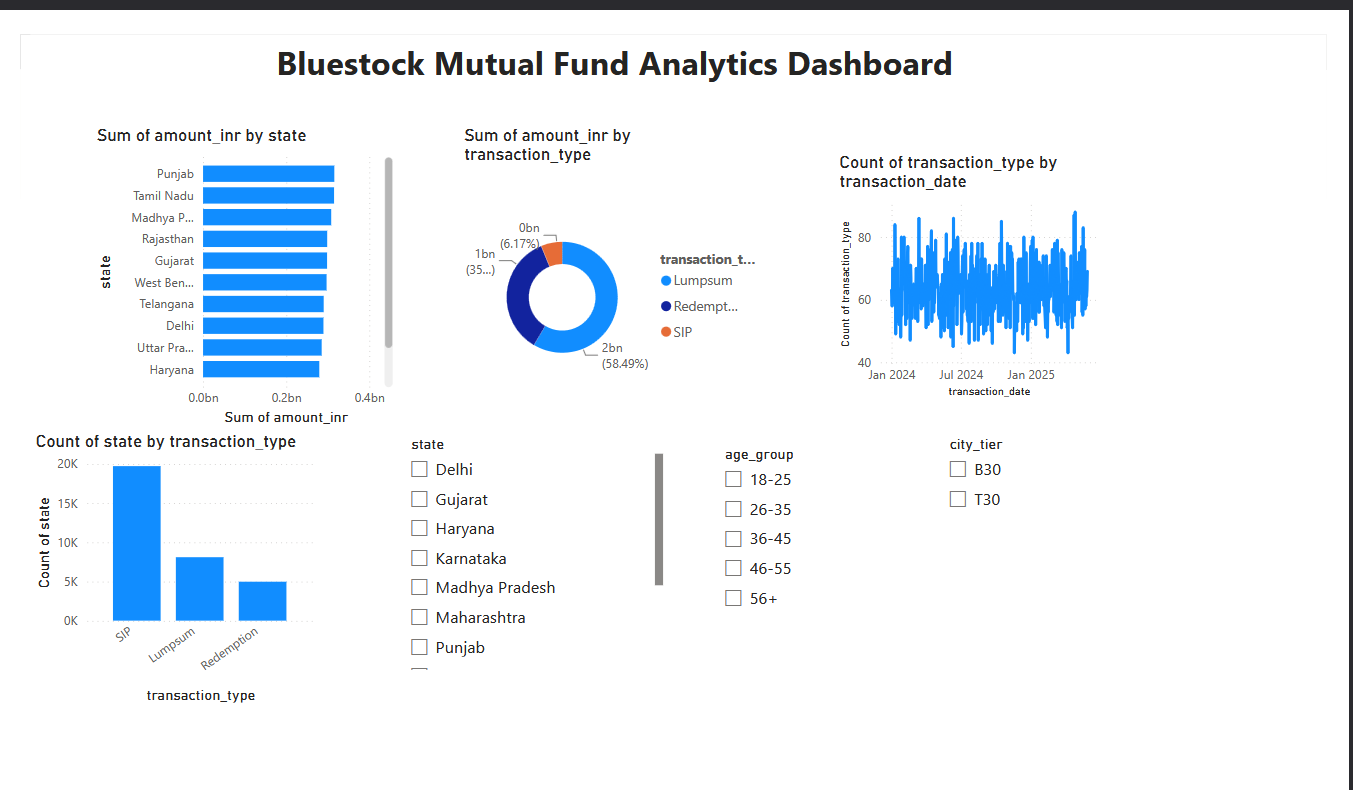

This screenshot's page, from the dashboard's own definition file:
{"tool":"powerbi","page":{"name":"Investor Analytics","canvas":[1280,720],"ordinal":2},"visuals":[{"type":"textbox","box":[10,0,1270,720],"z":0},{"type":"textbox","box":[0,0,1280,720],"z":1000},{"type":"clusteredBarChart","fields":{"Category":["investor_transactions_clean.state"],"Y":["Sum(investor_transactions_clean.amount_inr)"]},"box":[70,87.5,300,300],"z":2000},{"type":"donutChart","fields":{"Category":["investor_transactions_clean.transaction_type"],"Y":["Sum(investor_transactions_clean.amount_inr)"]},"box":[430,87.5,300,300],"z":3000},{"type":"clusteredColumnChart","fields":{"Y":["CountNonNull(investor_transactions_clean.state)"],"Category":["investor_transactions_clean.transaction_type"]},"box":[10,387.5,282.5,272.5],"z":4000},{"type":"lineChart","fields":{"Category":["investor_transactions_clean.transaction_date"],"Y":["CountNonNull(investor_transactions_clean.transaction_type)"]},"box":[797.5,115,277.5,245],"z":5000},{"type":"slicer","fields":{"Values":["investor_transactions_clean.state"]},"box":[370,387.5,265,240],"z":6000},{"type":"slicer","fields":{"Values":["investor_transactions_clean.age_group"]},"box":[677.5,397.5,260,252.5],"z":7000},{"type":"slicer","fields":{"Values":["investor_transactions_clean.city_tier"]},"box":[897.5,387.5,272.5,262.5],"z":8000}]}

Visuals, with their boxes on the page's 1280x720 design canvas (x1, y1, x2, y2). These are canvas units, not pixel positions in the 1353x790 screenshot, which may show the page scaled, cropped or inside an application window:
textbox: (x1=10, y1=0, x2=1280, y2=720)
textbox: (x1=0, y1=0, x2=1280, y2=720)
clusteredBarChart - investor_transactions_clean.state x Sum(investor_transactions_clean.amount_inr): (x1=70, y1=88, x2=370, y2=388)
donutChart - investor_transactions_clean.transaction_type x Sum(investor_transactions_clean.amount_inr): (x1=430, y1=88, x2=730, y2=388)
clusteredColumnChart - CountNonNull(investor_transactions_clean.state) x investor_transactions_clean.transaction_type: (x1=10, y1=388, x2=292, y2=660)
lineChart - investor_transactions_clean.transaction_date x CountNonNull(investor_transactions_clean.transaction_type): (x1=798, y1=115, x2=1075, y2=360)
slicer - investor_transactions_clean.state: (x1=370, y1=388, x2=635, y2=628)
slicer - investor_transactions_clean.age_group: (x1=678, y1=398, x2=938, y2=650)
slicer - investor_transactions_clean.city_tier: (x1=898, y1=388, x2=1170, y2=650)
